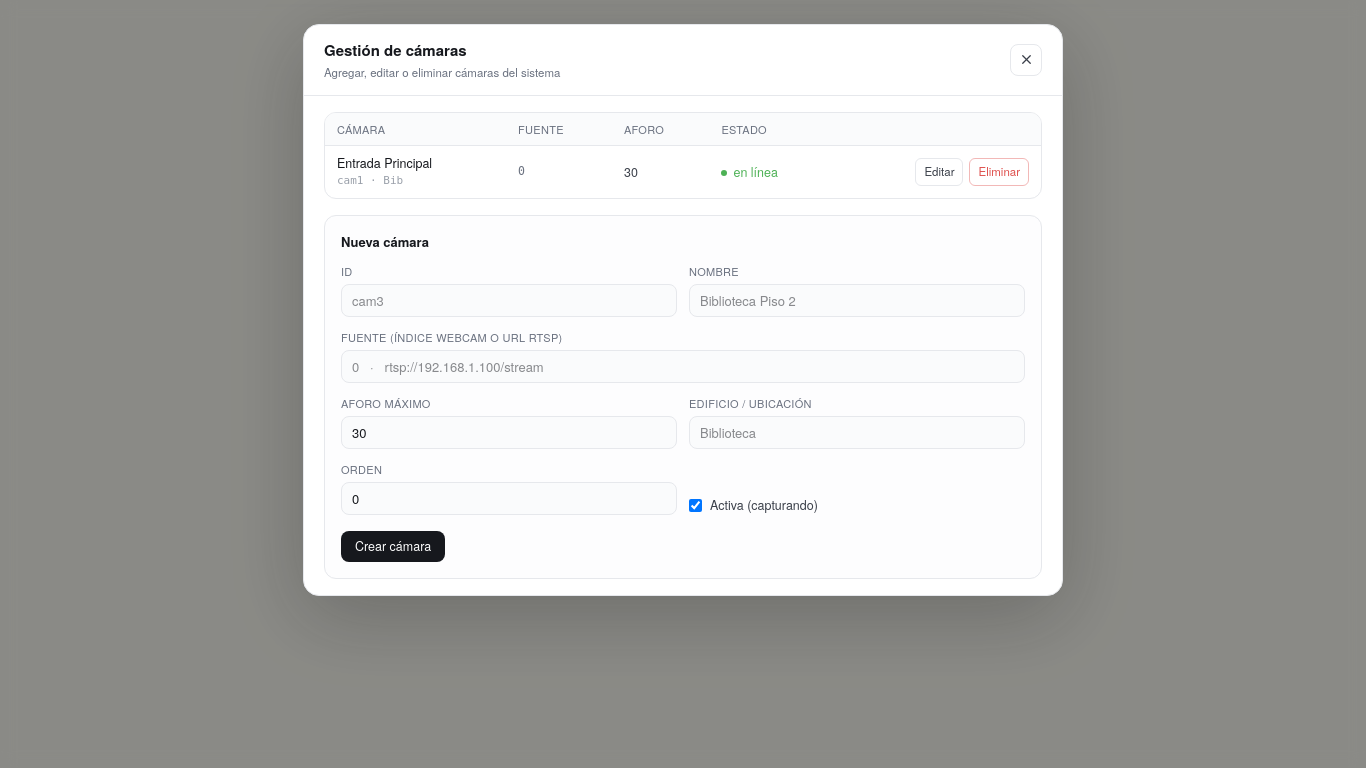
Test case: AdminPanel › muestra el error del backend si la creación falla
Check: the text "Entrada Principal" is shown, box [337,154,432,172]
Step 1. Type "cam5" into the field with placeholder "cam3" → (509, 300), box [341,284,677,317]
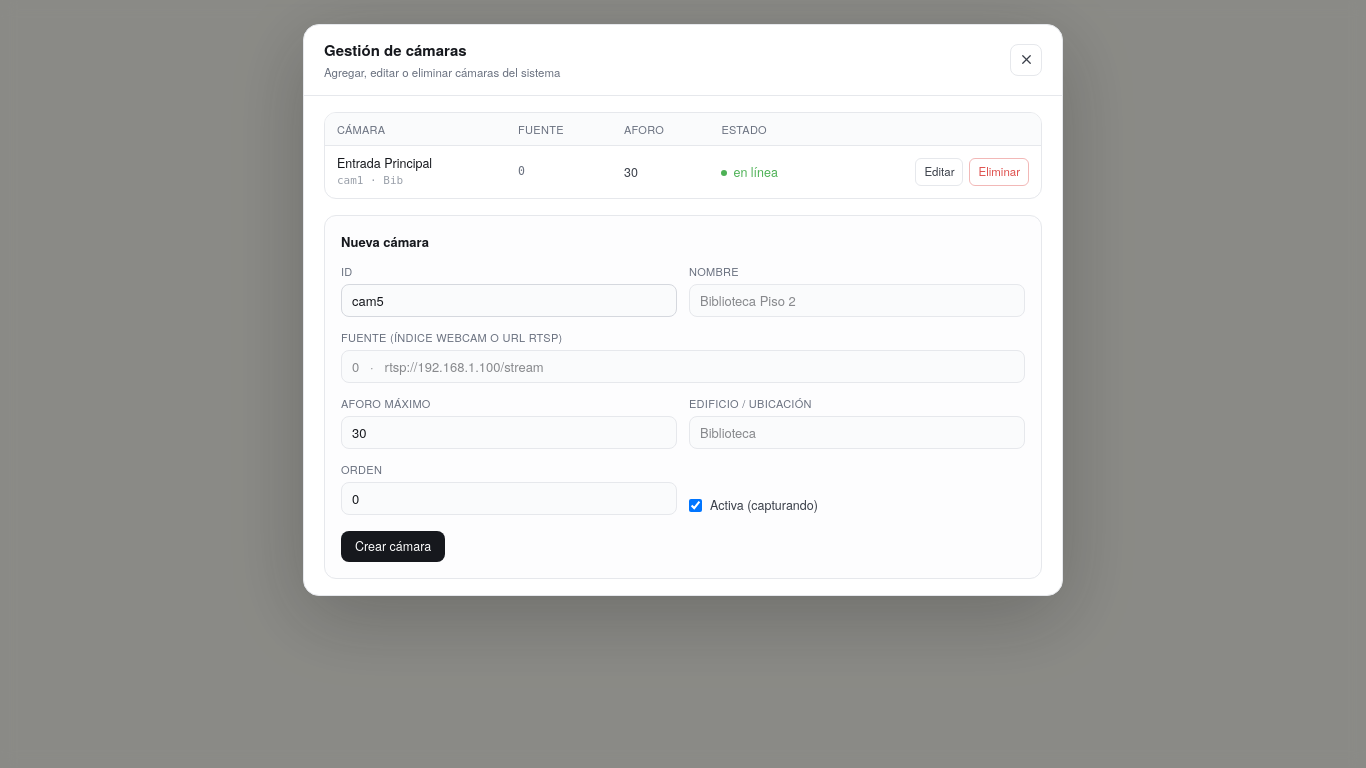
Step 2. Type "X" into the field with placeholder "Biblioteca Piso 2" → (857, 300), box [689,284,1025,317]
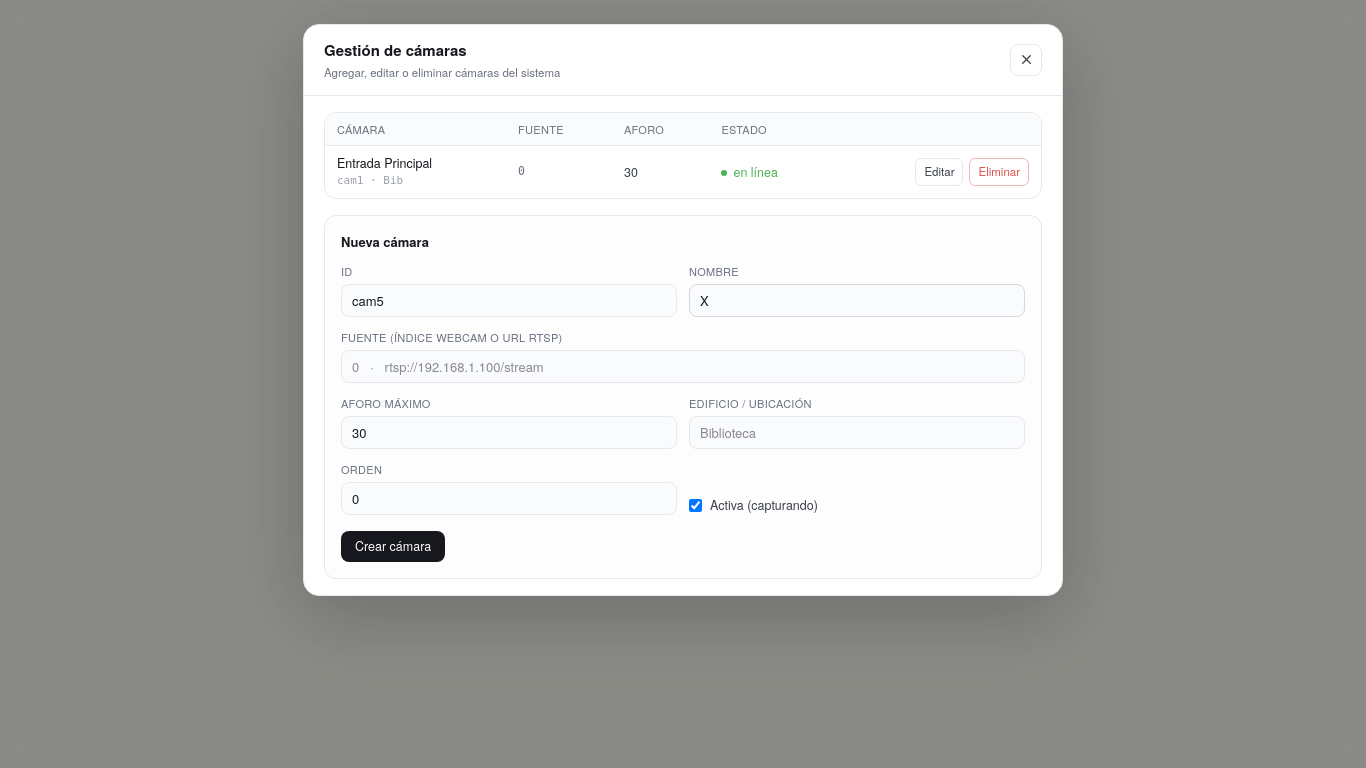
Step 3. Type "0" into the field with placeholder "0 · rtsp://192.168.1.100/stream" → (683, 366), box [341,350,1025,383]
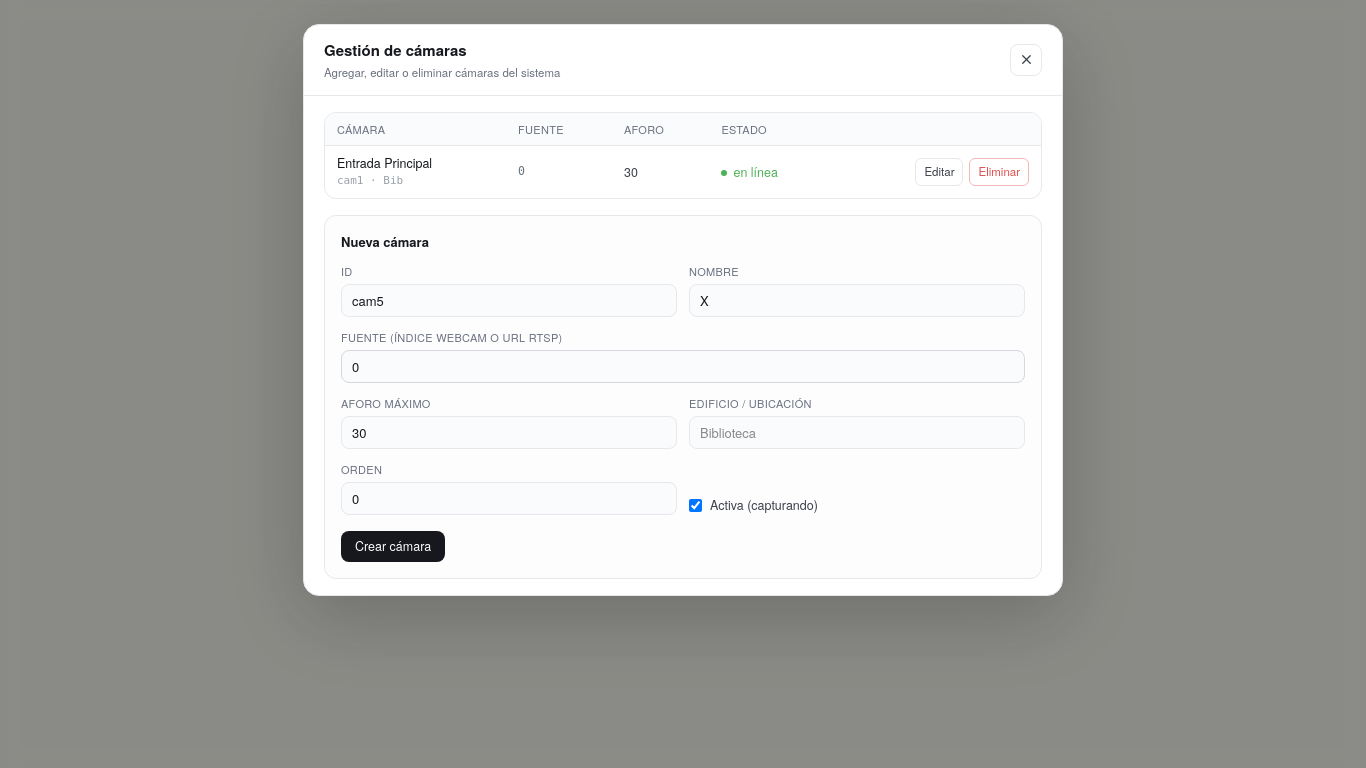
Step 4. Click the button "Crear cámara" → (393, 546), box [341,531,445,562]
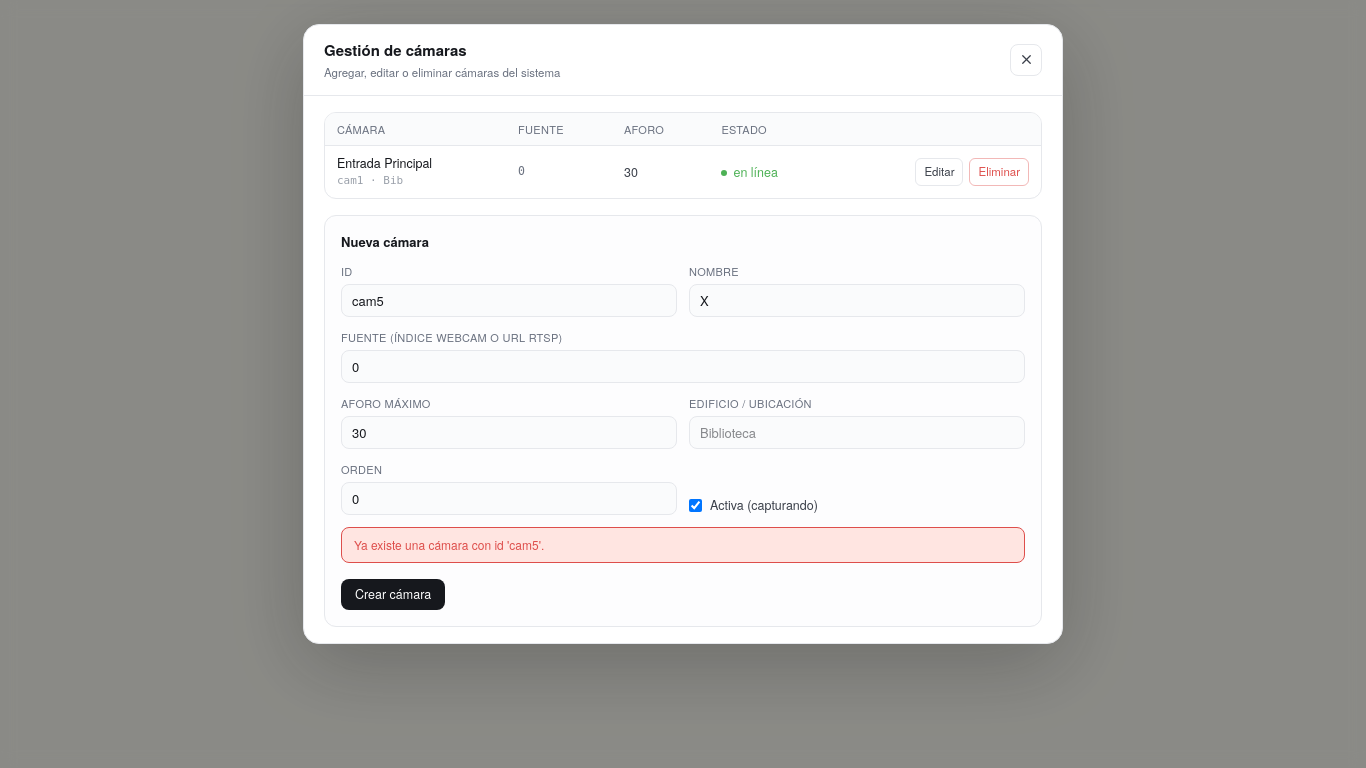
Check: the text "Ya existe una cámara con id 'cam5'." is shown, box [341,527,1025,563]
